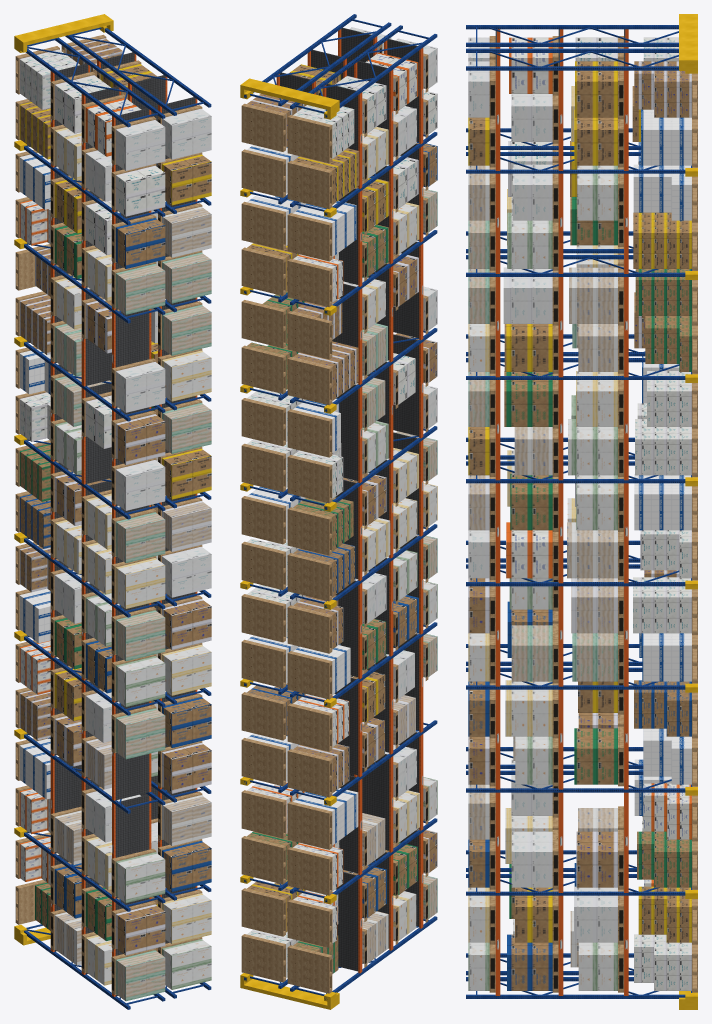
Rendered from racks_e1_n.gltf.
3 views of the same model, side by side, from view 1: azimuth 30°, elevation 25°; view 2: azimuth 150°, elevation 25°; view 3: azimuth 270°, elevation 25° (orthographic). The views are drawn at different scales.
Visible parts, largest first — view 1: racks_e1_n; view 2: racks_e1_n; view 3: racks_e1_n.
Boxes of the visible parts, x1,y1,x2,y2 form: racks_e1_n: (14, 14, 211, 1009); racks_e1_n: (240, 14, 437, 1009); racks_e1_n: (466, 14, 697, 1009).
Bounding box in the file's own units: 2.6 × 24.86 × 5.5.
21 materials, 21 textured.
